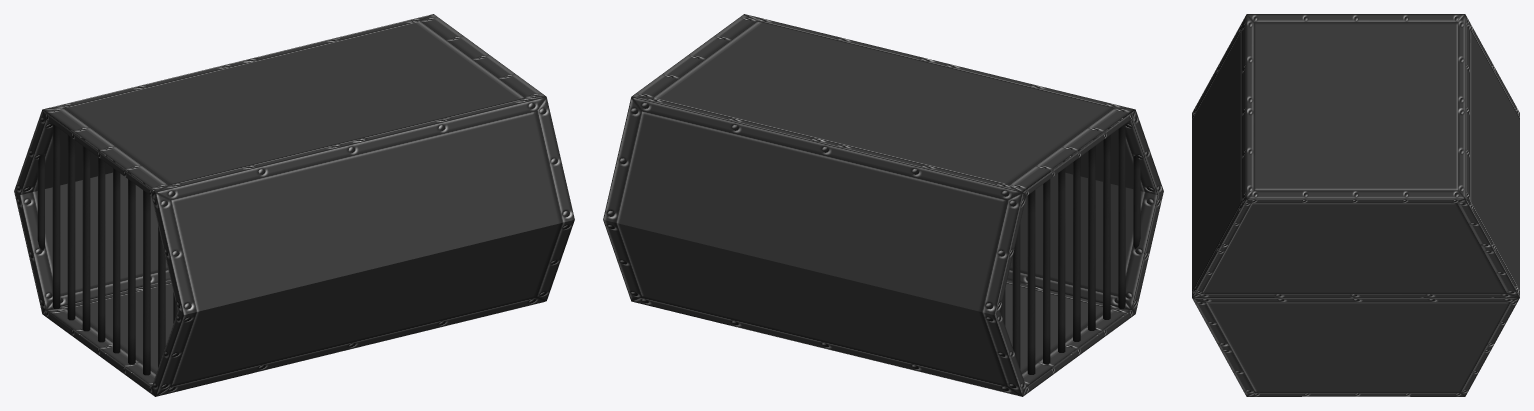
Rendered from cage.fbx.
3 renders of one model, left to right at view 1: azimuth 30°, elevation 25°; view 2: azimuth 150°, elevation 25°; view 3: azimuth 270°, elevation 25°, orthographic. The views are drawn at different scales.
Visible parts, largest first — view 1: cage, gate; view 2: cage, gate; view 3: cage.
Part boxes in pixels (x1=…): cage: x1=14, y1=14, x2=574, y2=396; gate: x1=37, y1=124, x2=177, y2=375; cage: x1=603, y1=14, x2=1163, y2=396; gate: x1=1000, y1=116, x2=1140, y2=374; cage: x1=1192, y1=14, x2=1519, y2=396.
Size of the model in its own units: 300 by 150 by 225.
Materials: 1 (1 with a texture image).
